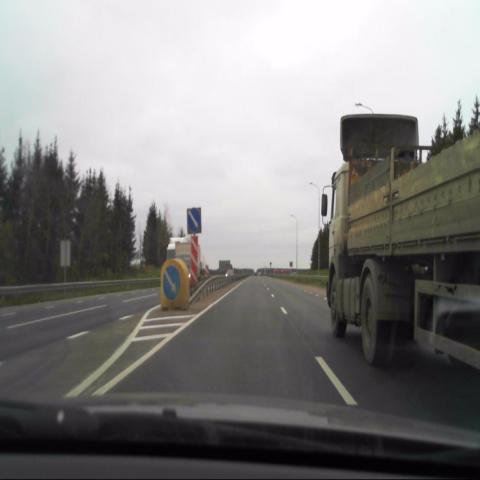4_2_1: (162, 265, 180, 301)
